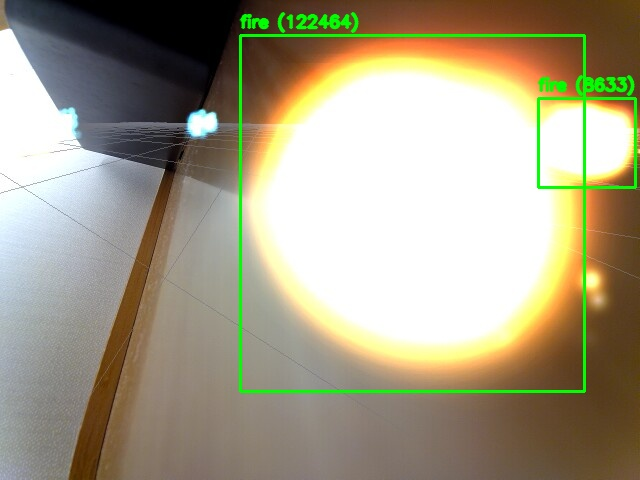fire: (240, 35, 584, 391), (538, 98, 635, 187)
